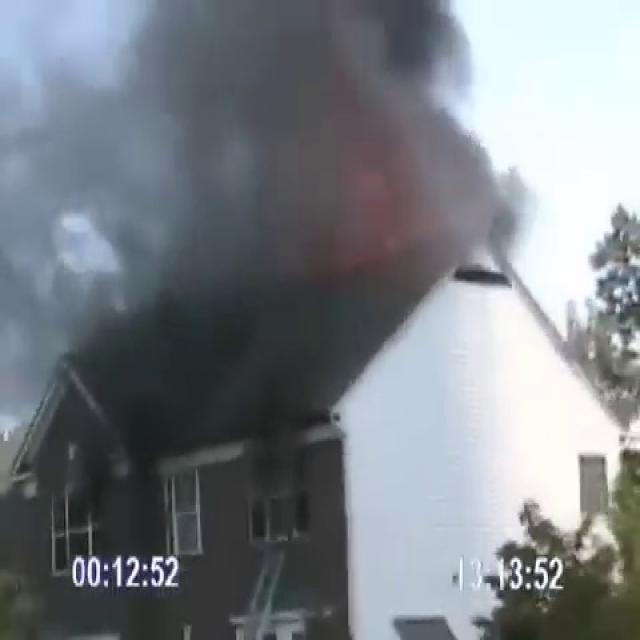Smoke: (13, 0, 530, 544)
